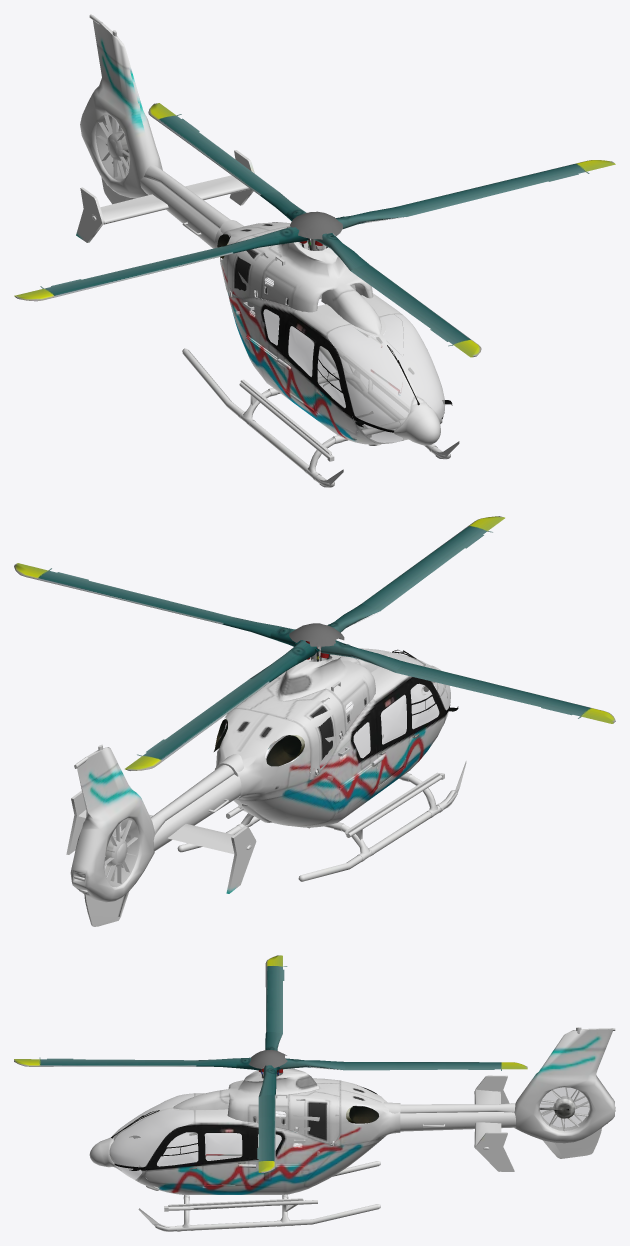
3 renders of one model, top to bottom at view 1: azimuth 30°, elevation 25°; view 2: azimuth 150°, elevation 25°; view 3: azimuth 270°, elevation 25°, orthographic. The views are drawn at different scales.
Visible parts, largest first — view 1: backdoor.L, pitchlink4, strobes, scissor; view 2: backdoor.L, pitchlink4, strobes, frontlight, scissor; view 3: backdoor.L, pitchlink4, strobes, frontlight.
Boxes of the visible parts, left/top/right/bottom form: backdoor.L: left=76, top=14, right=459, bottom=487; pitchlink4: left=14, top=103, right=615, bottom=357; strobes: left=95, top=114, right=445, bottom=442; scissor: left=97, top=115, right=419, bottom=405; backdoor.L: left=66, top=623, right=466, bottom=926; pitchlink4: left=14, top=516, right=615, bottom=770; strobes: left=104, top=648, right=450, bottom=886; frontlight: left=214, top=686, right=428, bottom=766; scissor: left=104, top=613, right=434, bottom=883; backdoor.L: left=89, top=1027, right=615, bottom=1231; pitchlink4: left=14, top=955, right=527, bottom=1173; strobes: left=109, top=1087, right=589, bottom=1179; frontlight: left=189, top=1085, right=378, bottom=1169.
Size of the model in its own units: 10.1 by 3.98 by 11.84.
Materials: 5 (5 with a texture image).
